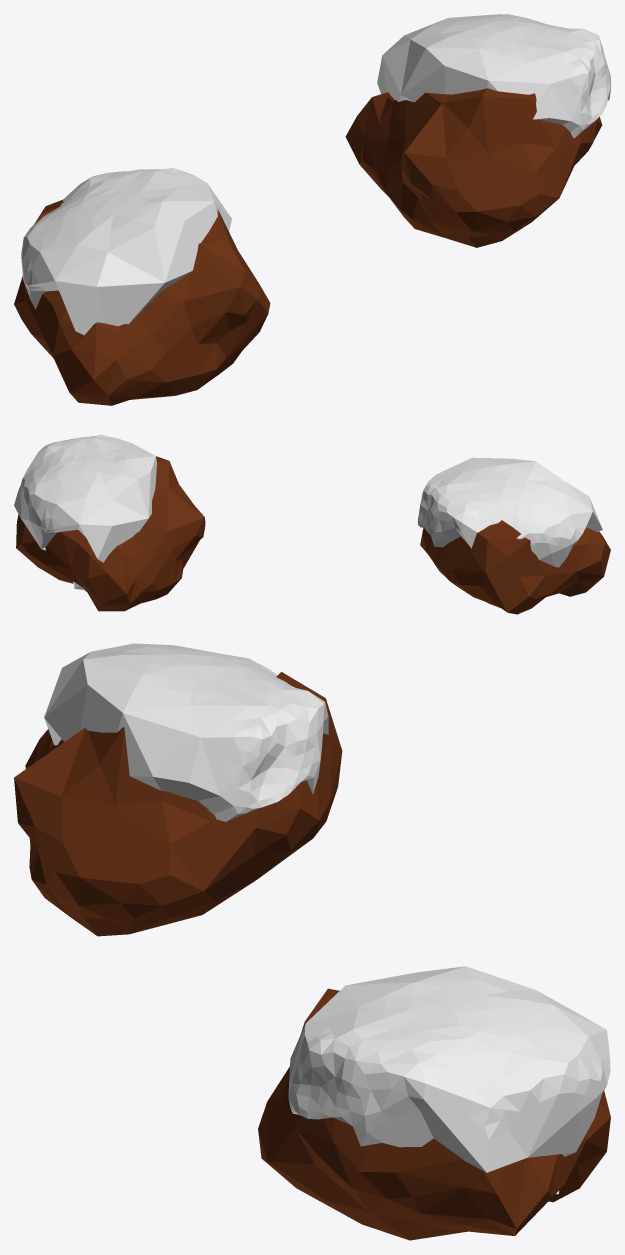
Rendered from Tre_PiattaformeRotanti.fbx.
The picture shows the model from 3 angles, top to bottom: view 1: azimuth 30°, elevation 25°; view 2: azimuth 150°, elevation 25°; view 3: azimuth 270°, elevation 25°; orthographic projection. The views are drawn at different scales.
Parts seen in each view (by area): view 1: Sphere.152, Sphere.149, Sphere.150, Sphere.151; view 2: Sphere.151, Sphere.150, Sphere.152, Sphere.149; view 3: Sphere.151, Sphere.149, Sphere.150, Sphere.152.
Boxes of the visible parts, box(x1,y1,x2,y2) form: Sphere.152: box(345, 88, 602, 247); Sphere.149: box(14, 199, 270, 405); Sphere.150: box(21, 168, 231, 335); Sphere.151: box(377, 14, 610, 137); Sphere.151: box(14, 434, 156, 590); Sphere.150: box(417, 457, 602, 567); Sphere.152: box(16, 456, 205, 611); Sphere.149: box(420, 520, 610, 614); Sphere.151: box(288, 966, 610, 1194); Sphere.149: box(14, 672, 342, 936); Sphere.150: box(44, 643, 328, 821); Sphere.152: box(258, 988, 610, 1240).
Size of the model in its own units: 54.93 by 15.44 by 30.87.
